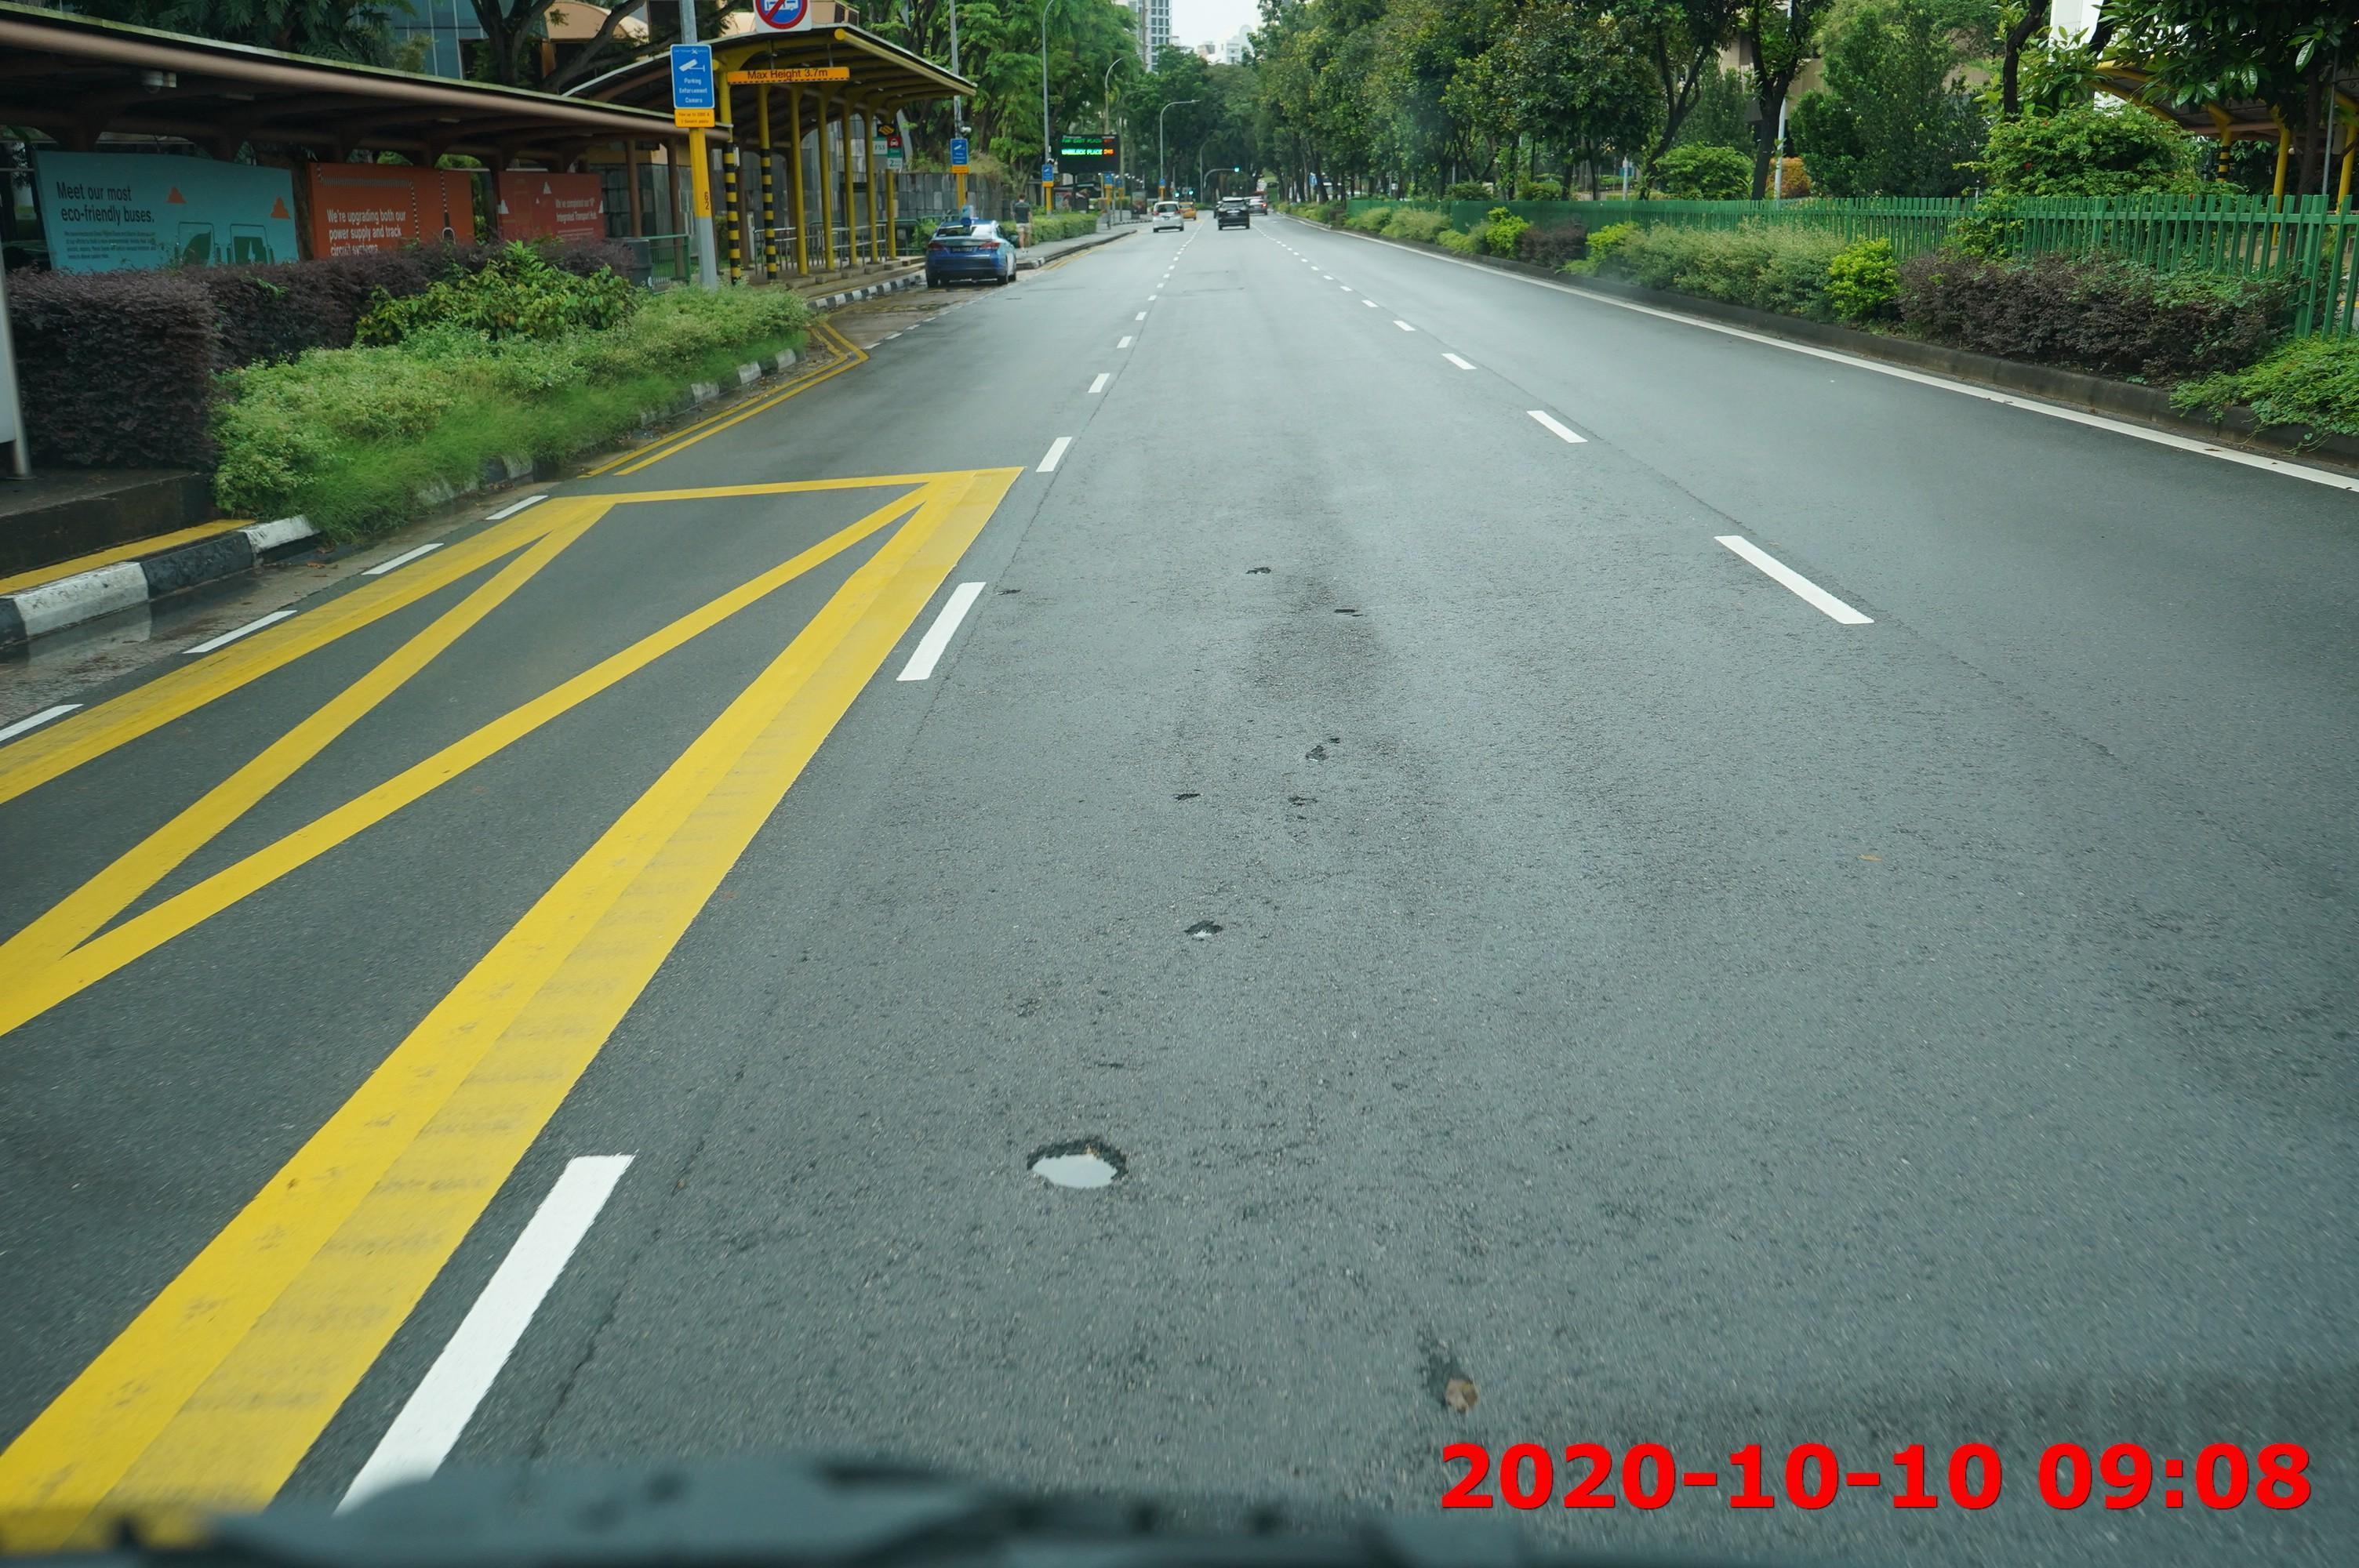localise surface defect: (1020, 1132, 1139, 1199)
peeling off premix: (1297, 726, 1349, 773), (1183, 910, 1223, 947)
